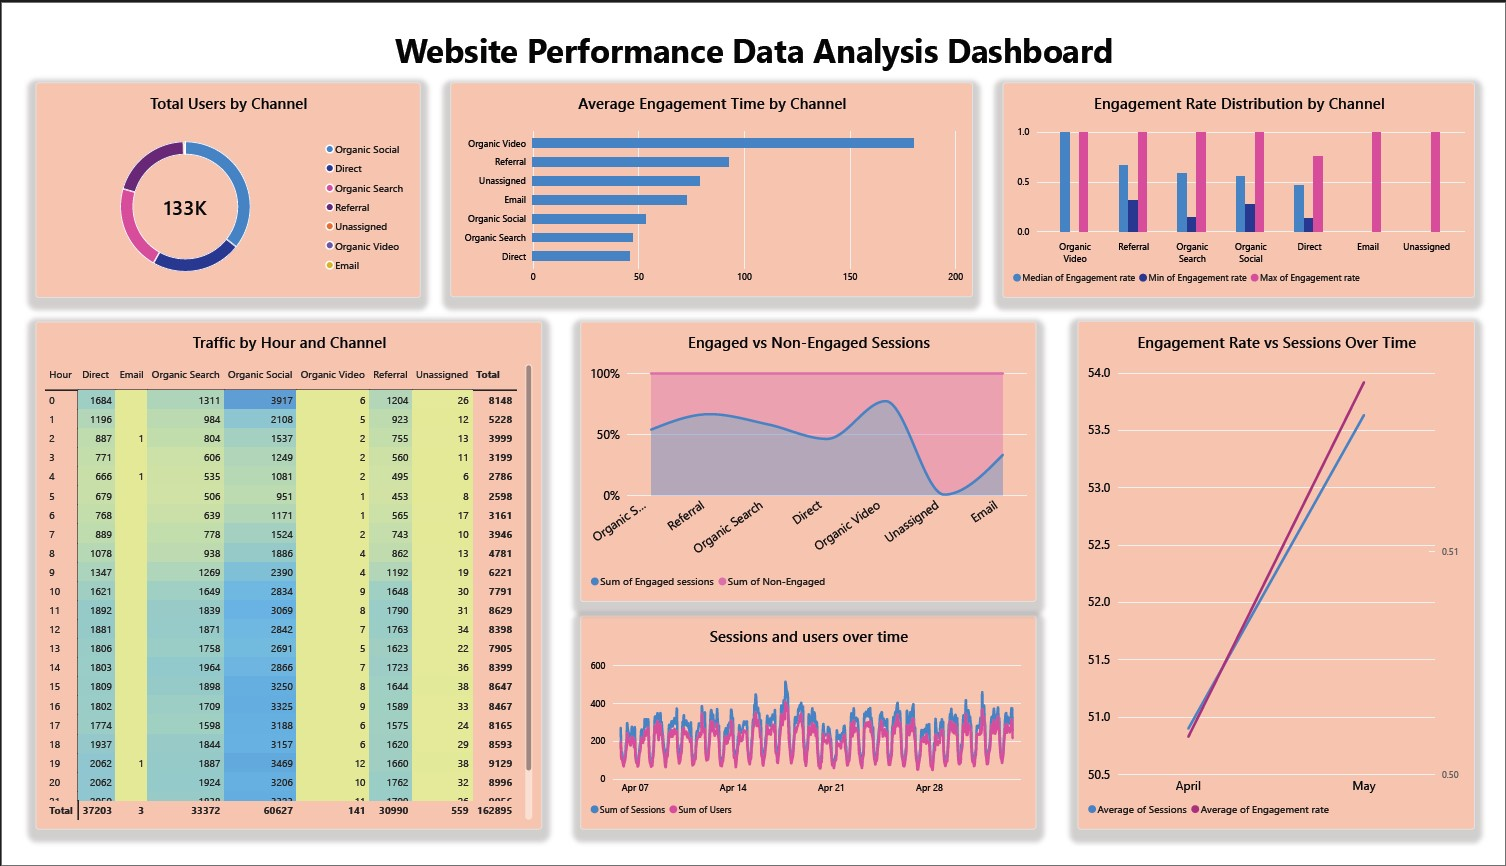

This screenshot's page, from the dashboard's own definition file:
{"tool":"powerbi","page":{"name":"Page 1","canvas":[1920,1080],"ordinal":0},"visuals":[{"type":"lineChart","title":"Sessions and users over time","fields":{"Category":["Website Data Analysis with Pyth.DateHour"],"Y":["Sum(Website Data Analysis with Pyth.Sessions)","Sum(Website Data Analysis with Pyth.Users)"]},"box":[732.5,777.5,597.5,280],"z":0},{"type":"donutChart","title":"Total Users by Channel","fields":{"Category":["Website Data Analysis with Pyth.channel group"],"Y":["Sum(Website Data Analysis with Pyth.Users)"]},"box":[20,80,504,282],"z":1000},{"type":"clusteredBarChart","title":"Average Engagement Time by Channel","fields":{"Category":["Website Data Analysis with Pyth.channel group"],"Y":["Avg(Website Data Analysis with Pyth.Avg Engagement Time)"]},"box":[562.9,80,684.3,281.4],"z":2000},{"type":"lineClusteredColumnComboChart","title":"Engagement Rate Distribution by Channel","fields":{"Category":["Website Data Analysis with Pyth.channel group"],"Y":["Median(Website Data Analysis with Pyth.Engagement rate)","Min(Website Data Analysis with Pyth.Engagement rate)","Max(Website Data Analysis with Pyth.Engagement rate)1"]},"box":[1286,80,618,282],"z":3000},{"type":"hundredPercentStackedAreaChart","title":"Engaged vs Non-Engaged Sessions","fields":{"Category":["Website Data Analysis with Pyth.channel group"],"Y":["Sum(Website Data Analysis with Pyth.Engaged sessions)","Sum(Website Data Analysis with Pyth.Non-Engaged)"]},"box":[732.5,392.5,597.5,367.5],"z":4000},{"type":"pivotTable","title":"Traffic by Hour and Channel","fields":{"Rows":["Website Data Analysis with Pyth.Hour"],"Columns":["Website Data Analysis with Pyth.channel group"],"Values":["Sum(Website Data Analysis with Pyth.Sessions)"]},"box":[20,392.5,662.5,665],"z":5000},{"type":"lineChart","title":"Engagement Rate vs Sessions Over Time","fields":{"Y":["Avg(Website Data Analysis with Pyth.Sessions)"],"Y2":["Avg(Website Data Analysis with Pyth.Engagement rate)"],"Category":["Website Data Analysis with Pyth.DateHour.Variation.Date Hierarchy.Month","Website Data Analysis with Pyth.DateHour.Variation.Date Hierarchy.Day"]},"box":[1384,392,520,666],"z":6000},{"type":"textbox","box":[0,8.8,1920,58.8],"z":7000}]}

Visuals, with their boxes in screenshot pixels (x1, y1, x2, y2), scaled from the page's 1920x1080 canvas onto the 1506x866 screenshot:
"Sessions and users over time" lineChart: pyautogui.locateOnScreen(575, 623, 1043, 848)
"Total Users by Channel" donutChart: pyautogui.locateOnScreen(16, 64, 411, 290)
"Average Engagement Time by Channel" clusteredBarChart: pyautogui.locateOnScreen(442, 64, 978, 290)
"Engagement Rate Distribution by Channel" lineClusteredColumnComboChart: pyautogui.locateOnScreen(1009, 64, 1493, 290)
"Engaged vs Non-Engaged Sessions" hundredPercentStackedAreaChart: pyautogui.locateOnScreen(575, 315, 1043, 609)
"Traffic by Hour and Channel" pivotTable: pyautogui.locateOnScreen(16, 315, 535, 848)
"Engagement Rate vs Sessions Over Time" lineChart: pyautogui.locateOnScreen(1086, 314, 1493, 848)
textbox: pyautogui.locateOnScreen(0, 7, 1505, 54)
